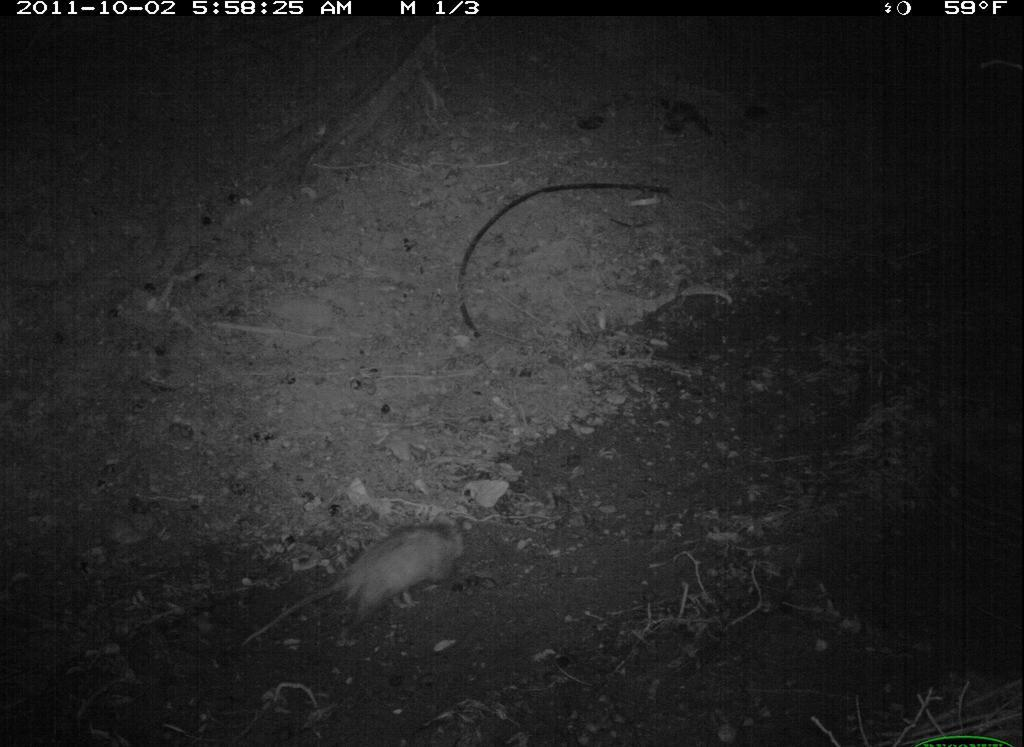opossum: (240, 515, 481, 658)
